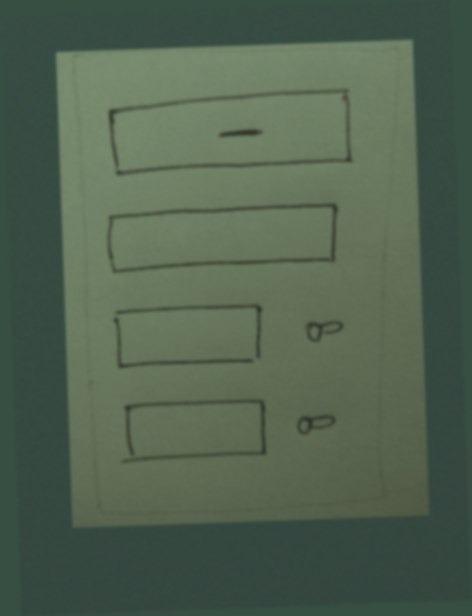button: (96, 80, 362, 186)
switch: (288, 401, 349, 451), (296, 309, 352, 352)
text_input: (98, 199, 346, 280), (104, 298, 274, 376), (113, 393, 277, 472)
